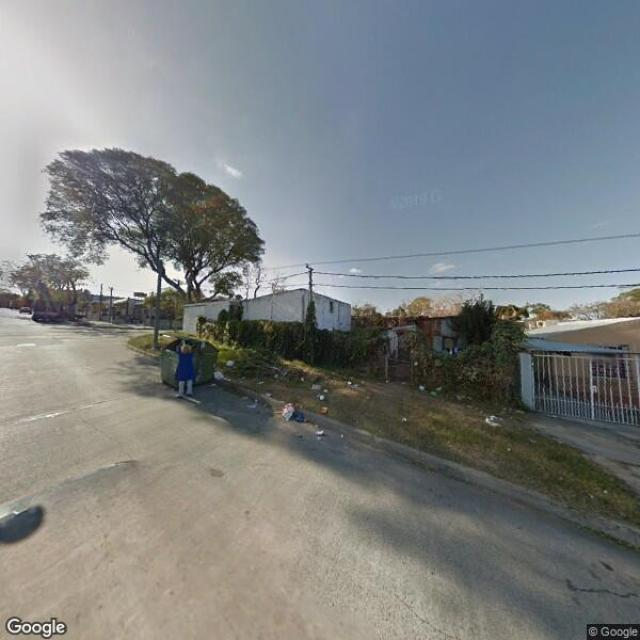garbage container: (151, 329, 223, 402)
